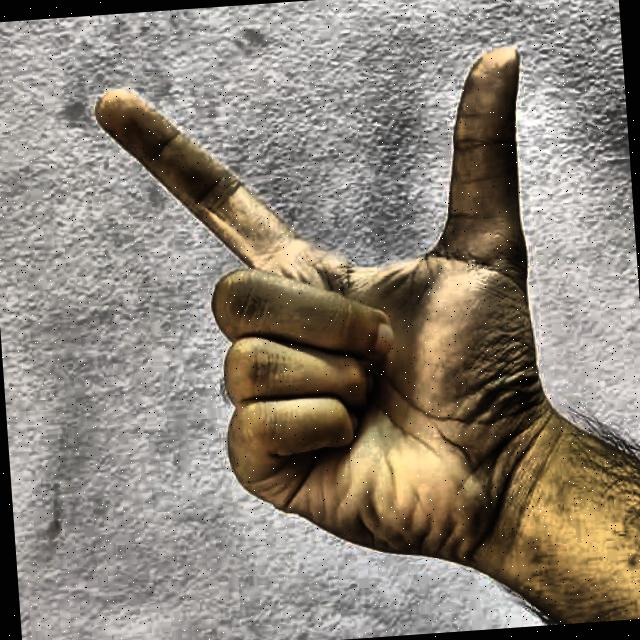ChandraBindu: (71, 6, 594, 608)
